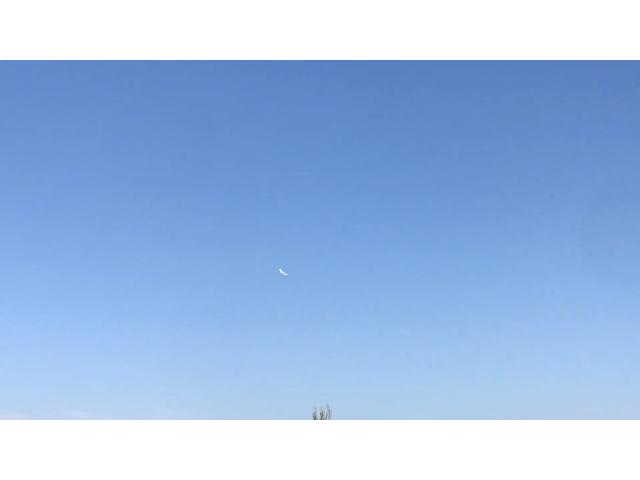Anti-Drone: (265, 262, 299, 286)
